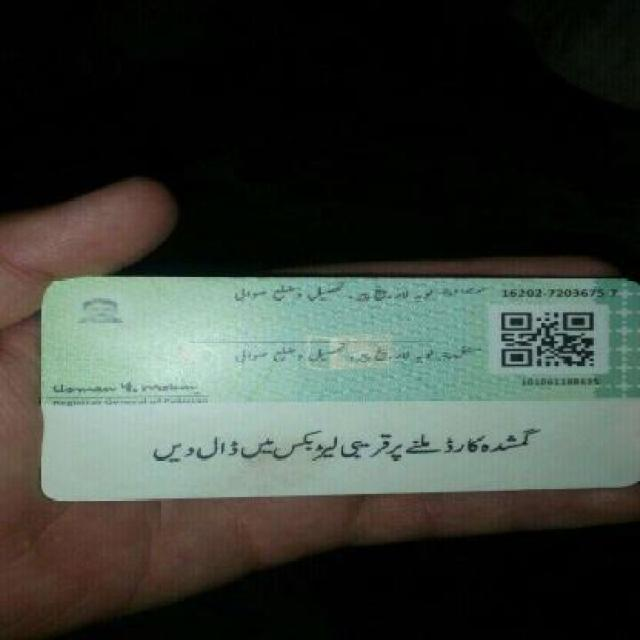Back: (31, 272, 631, 491)
